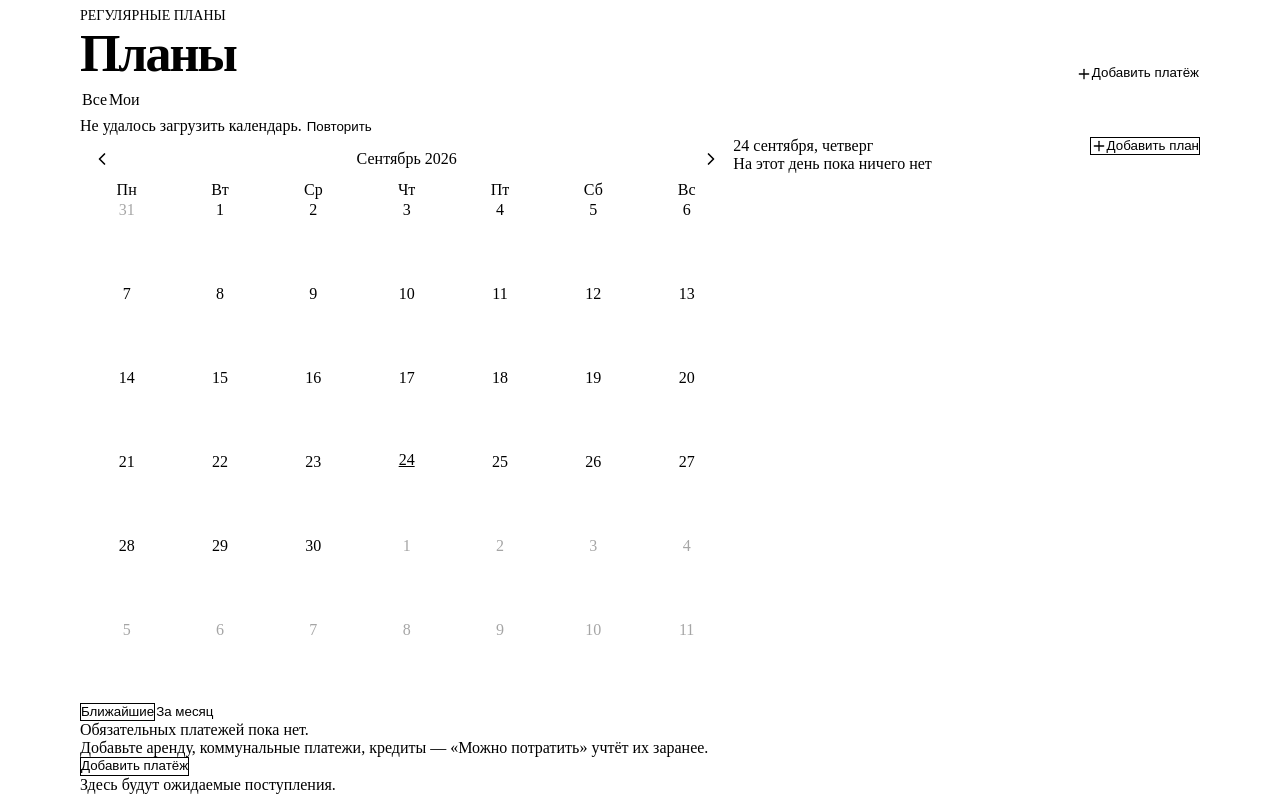
Scenario: plans page › shows a calendar read error with a retry that rereads
Expected: the message "Не удалось загрузить календарь. Повторить" is shown, 80,117 -> 373,137
Click the button with test id "calendar-retry" at (339, 127), box 306,118 -> 373,137
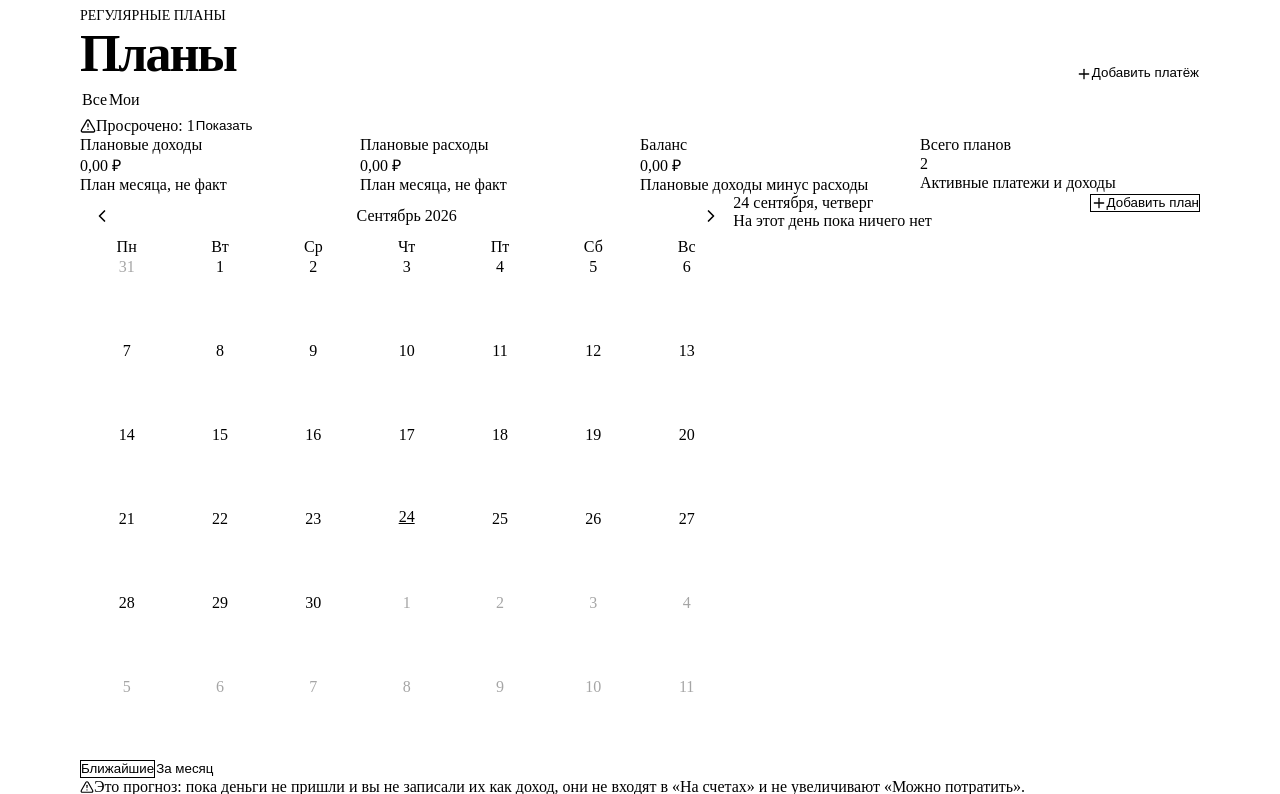
Now the text "Не удалось загрузить календарь." is gone
